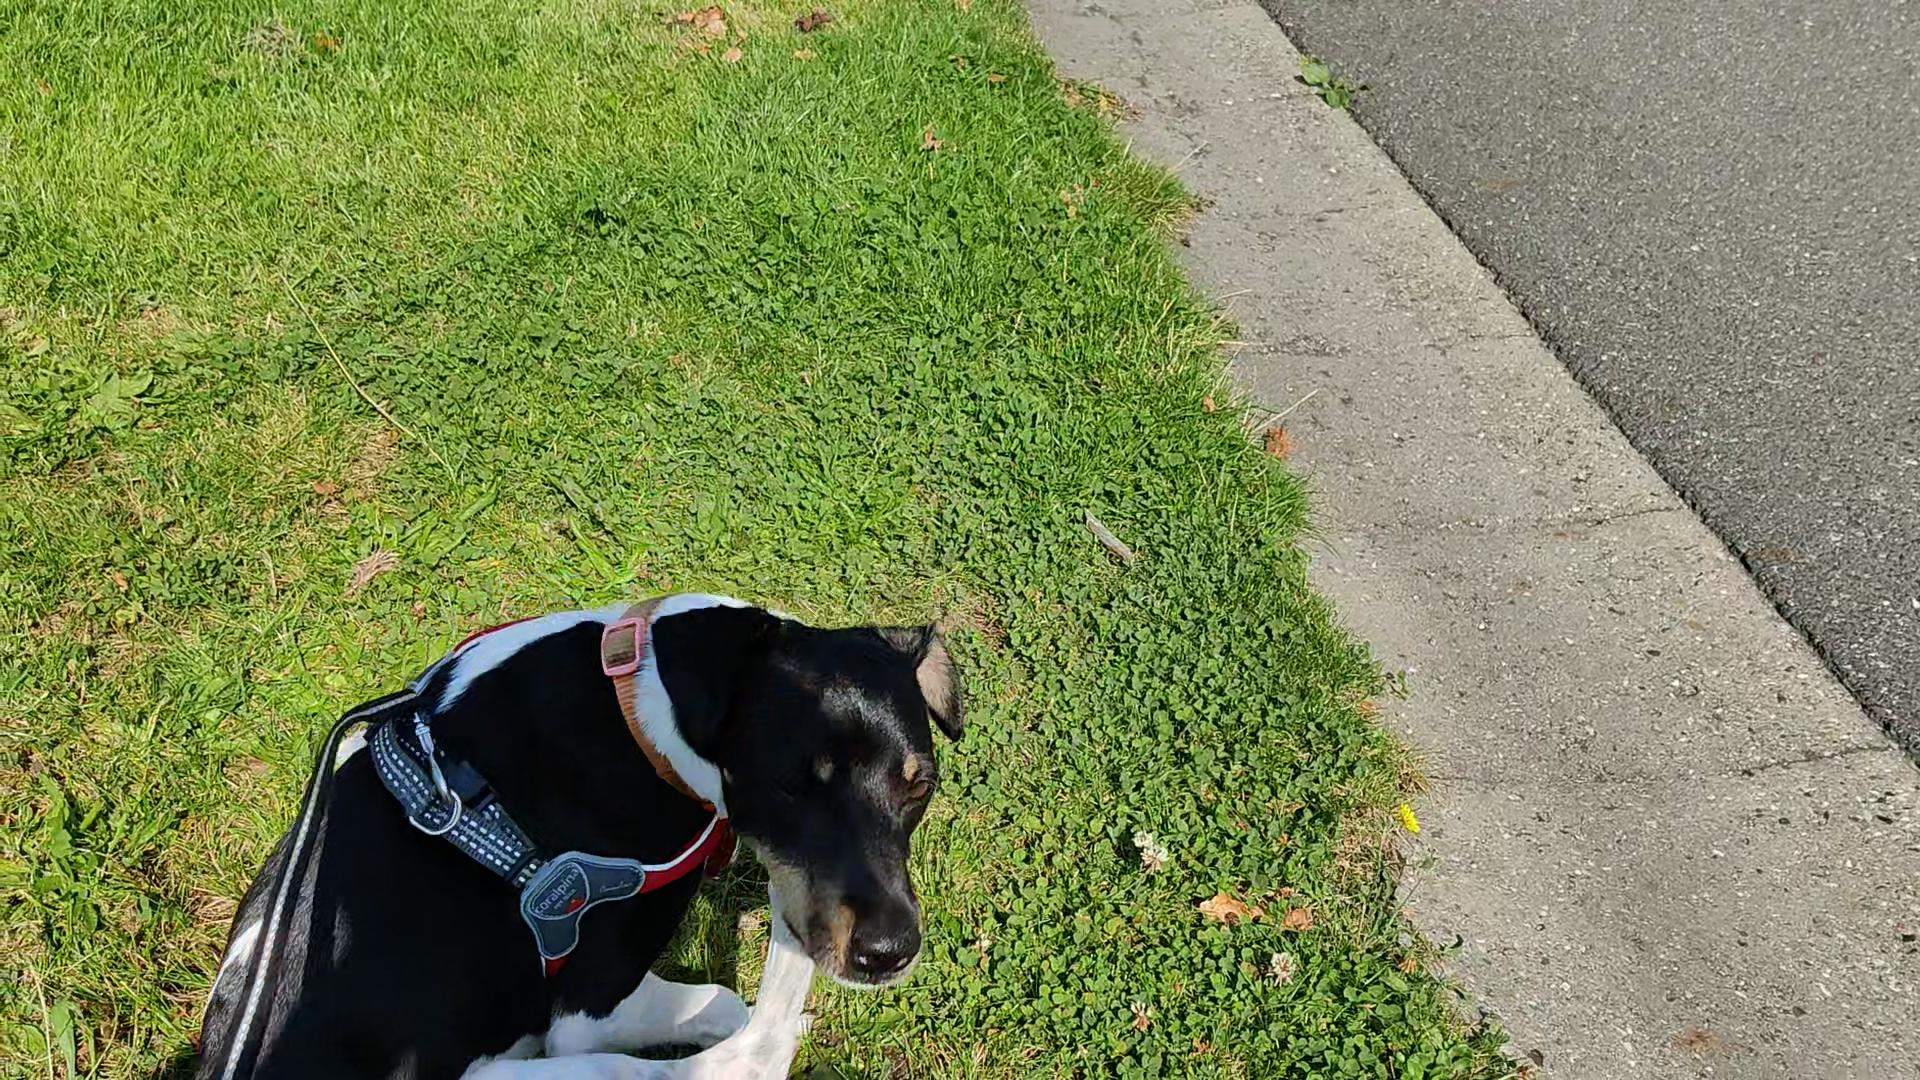Dog: (160, 574, 982, 1079)
